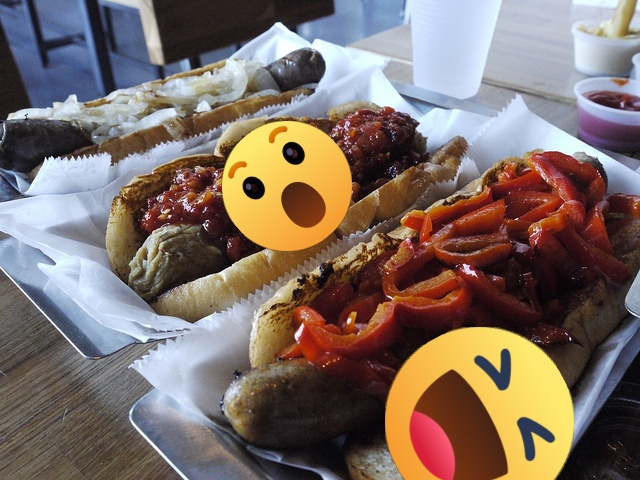haha: (385, 327, 574, 480)
wow: (222, 121, 352, 251)
